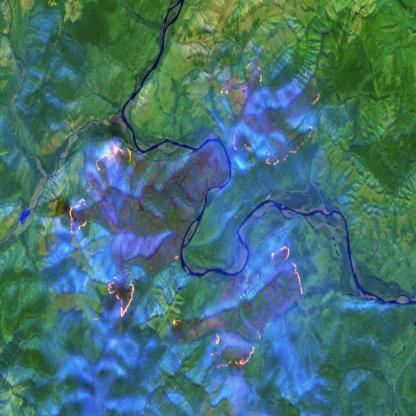fire: (201, 236, 316, 381), (214, 50, 330, 172), (63, 138, 139, 243), (104, 269, 139, 318)
